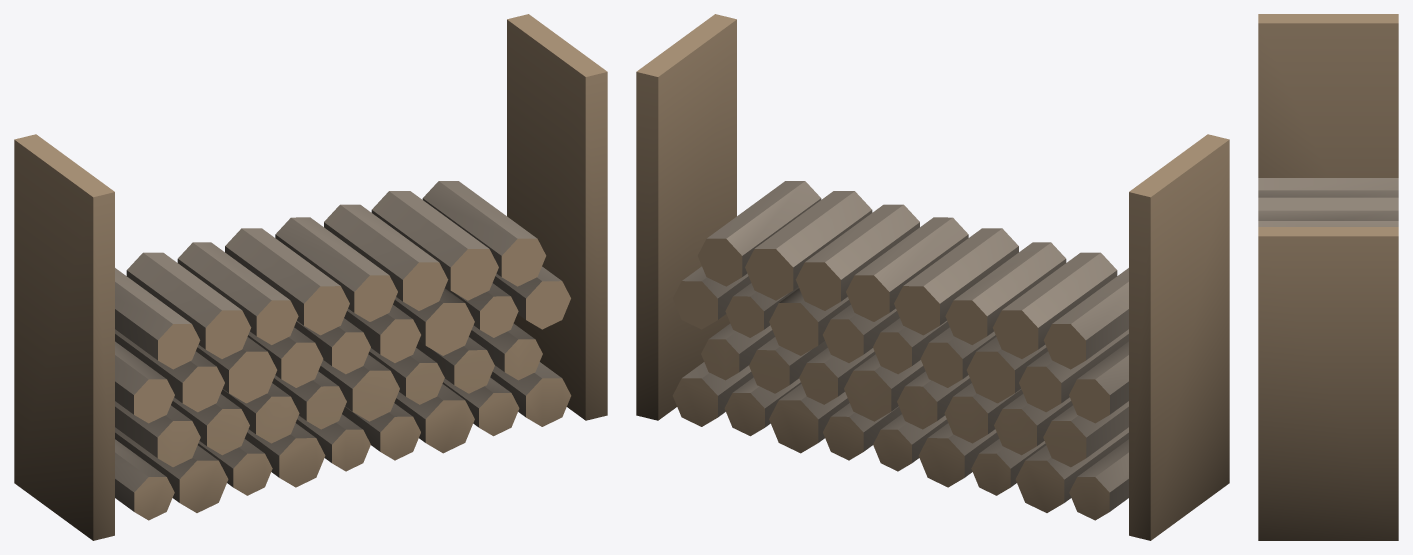
The model's file is woodpile.glb.
3 renders of one model, left to right at view 1: azimuth 30°, elevation 25°; view 2: azimuth 150°, elevation 25°; view 3: azimuth 270°, elevation 25°, orthographic. The views are drawn at different scales.
Parts seen in each view (by area): view 1: woodpile; view 2: woodpile; view 3: woodpile.
Boxes of the visible parts, bbox=[...] form: woodpile: bbox=[14, 14, 607, 540]; woodpile: bbox=[636, 14, 1229, 540]; woodpile: bbox=[1258, 14, 1398, 540].
Size of the model in its own units: 1.88 by 1.2 by 0.5.
